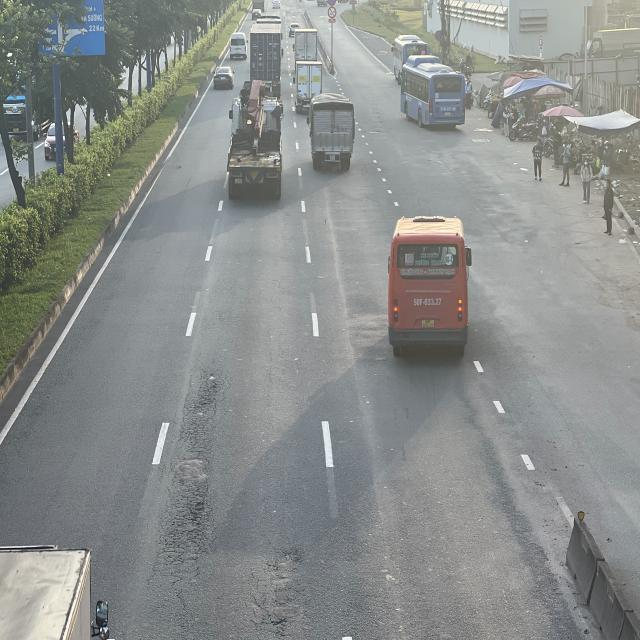car: (212, 66, 235, 90), (288, 22, 300, 35)
coach: (397, 56, 467, 126)
container: (251, 19, 284, 94)
truck: (226, 90, 282, 202), (310, 97, 356, 173), (292, 58, 322, 110), (294, 29, 316, 58)
van: (386, 214, 472, 358), (230, 33, 249, 60)
